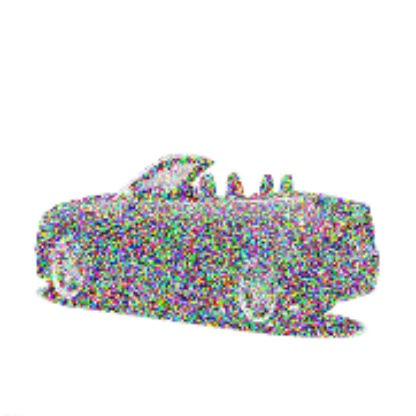Vehicle: (36, 151, 380, 334)
